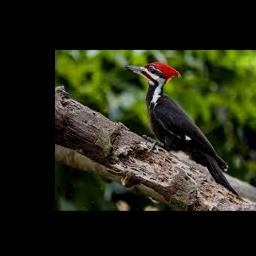Woodpecker: (124, 61, 241, 198)
